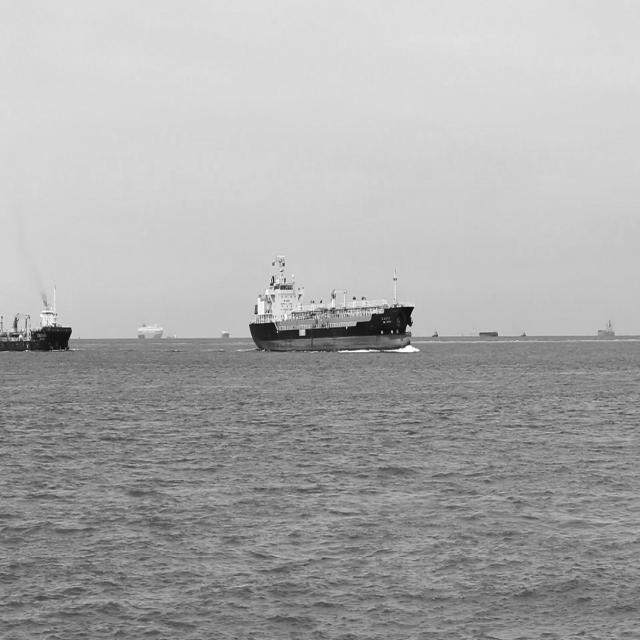ship: (247, 255, 416, 353), (0, 280, 74, 352), (134, 322, 163, 341), (598, 316, 618, 341)
